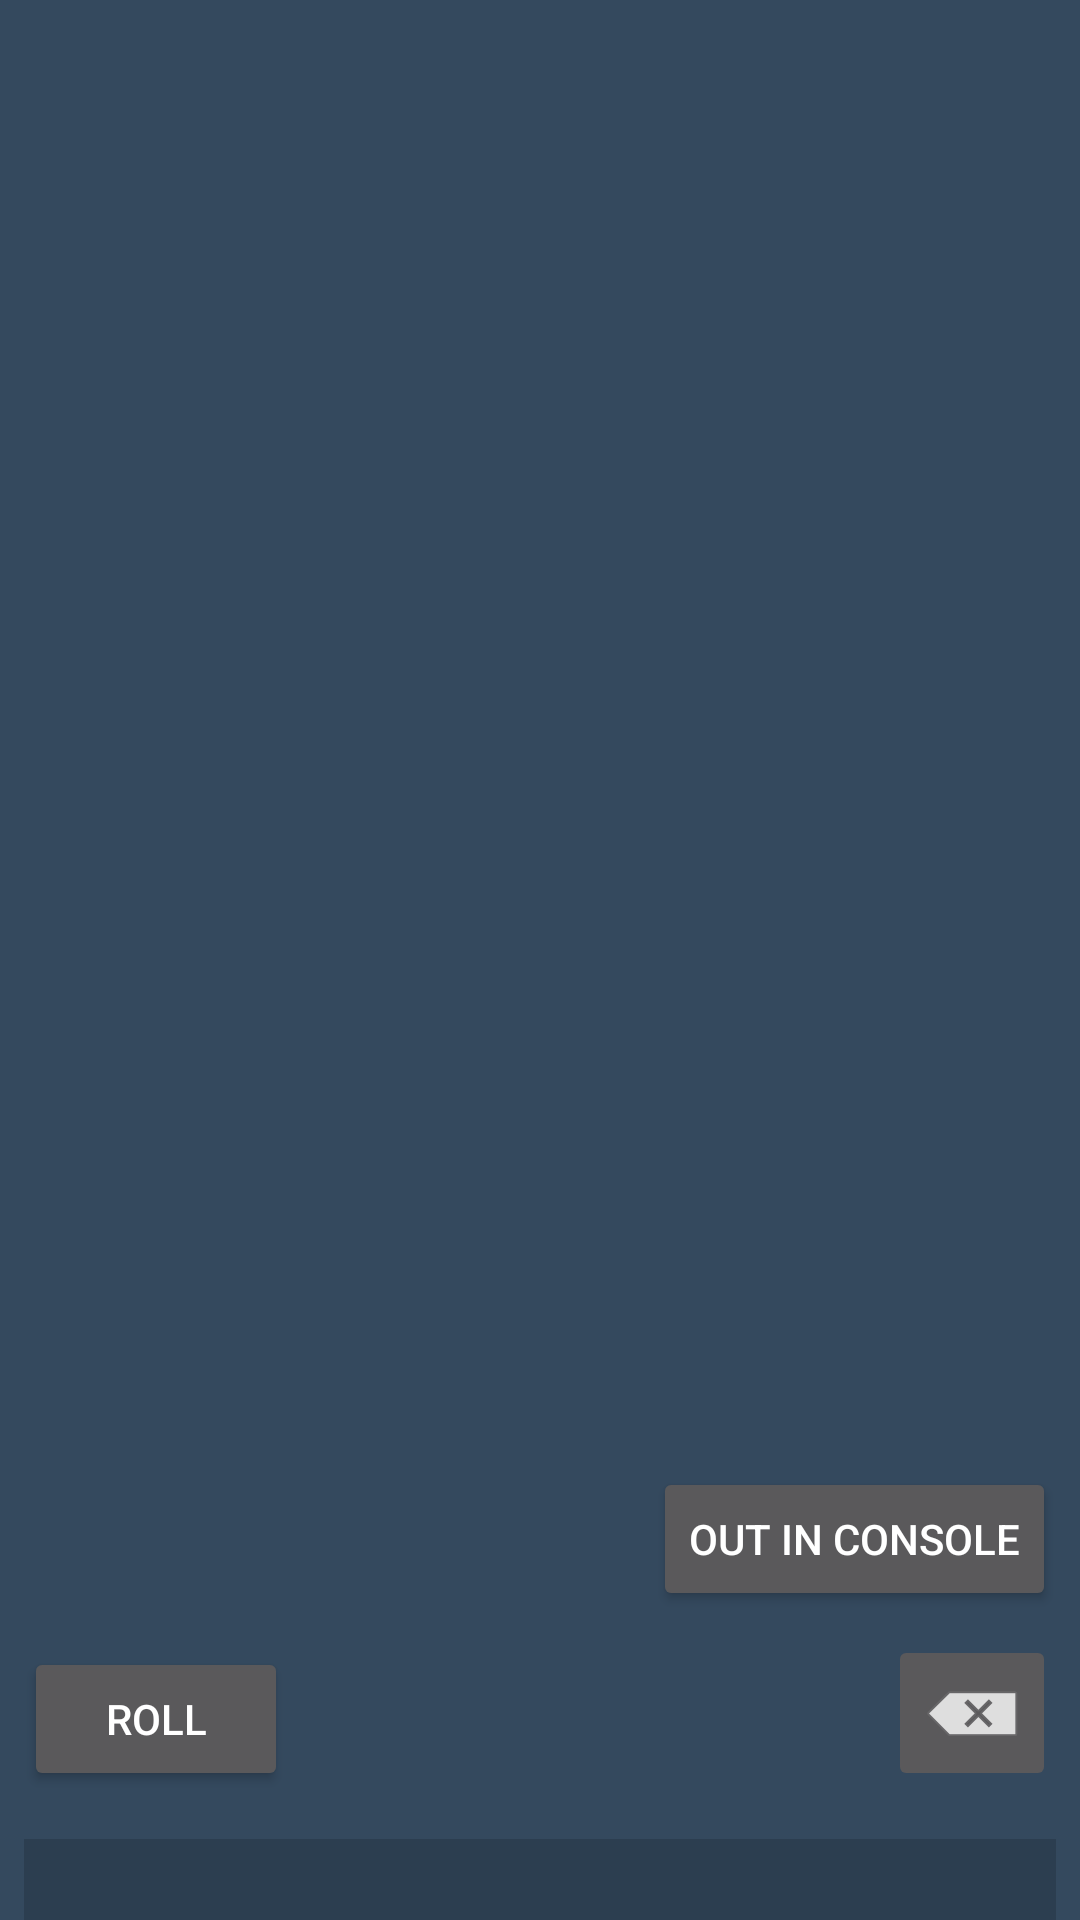

Where icons sit on this 1080 × 1920 app screen, as (x1, y1, x2, y2):
delete: (900, 1653, 1044, 1773)
